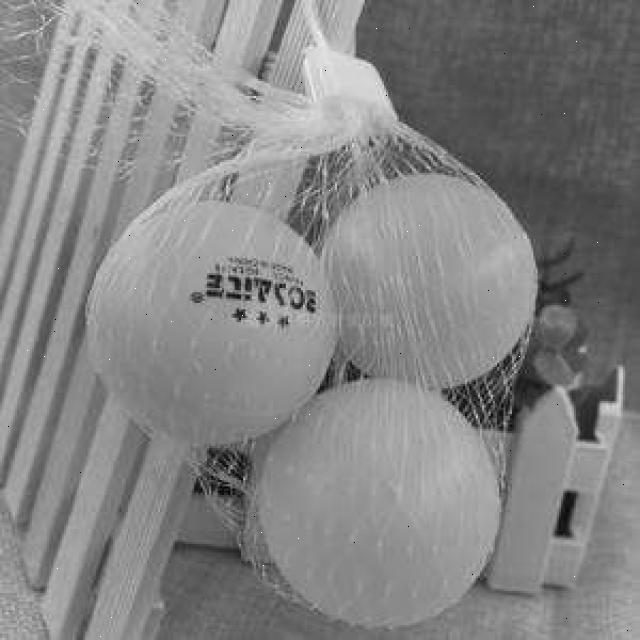ping-pong-ball: (79, 192, 335, 444), (258, 373, 501, 623), (316, 166, 538, 386)
